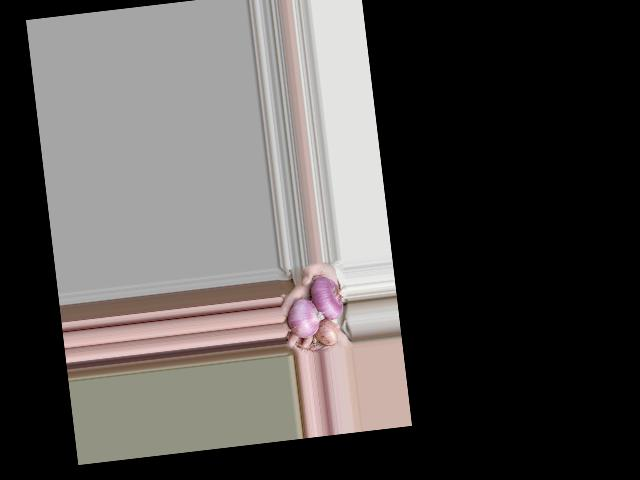onion: (311, 275, 343, 319)
